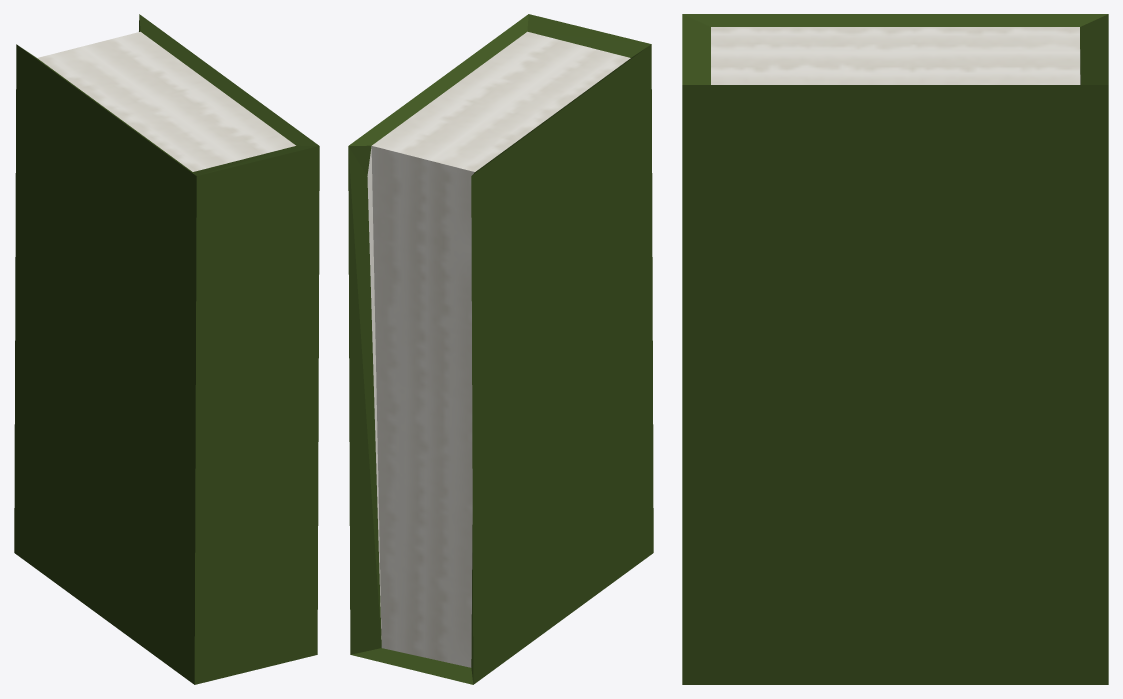
Rendered from centeredBook.fbx.
The picture shows the model from 3 angles, left to right: view 1: azimuth 30°, elevation 25°; view 2: azimuth 150°, elevation 25°; view 3: azimuth 270°, elevation 25°; orthographic projection. The views are drawn at different scales.
Visible parts, largest first — view 1: pCube36; view 2: pCube36; view 3: pCube36.
Boxes of the visible parts, left/top/right/bottom form: pCube36: left=14, top=14, right=319, bottom=684; pCube36: left=348, top=14, right=653, bottom=684; pCube36: left=682, top=14, right=1108, bottom=684.
Bounding box in the file's own units: 112 × 436 × 281.
